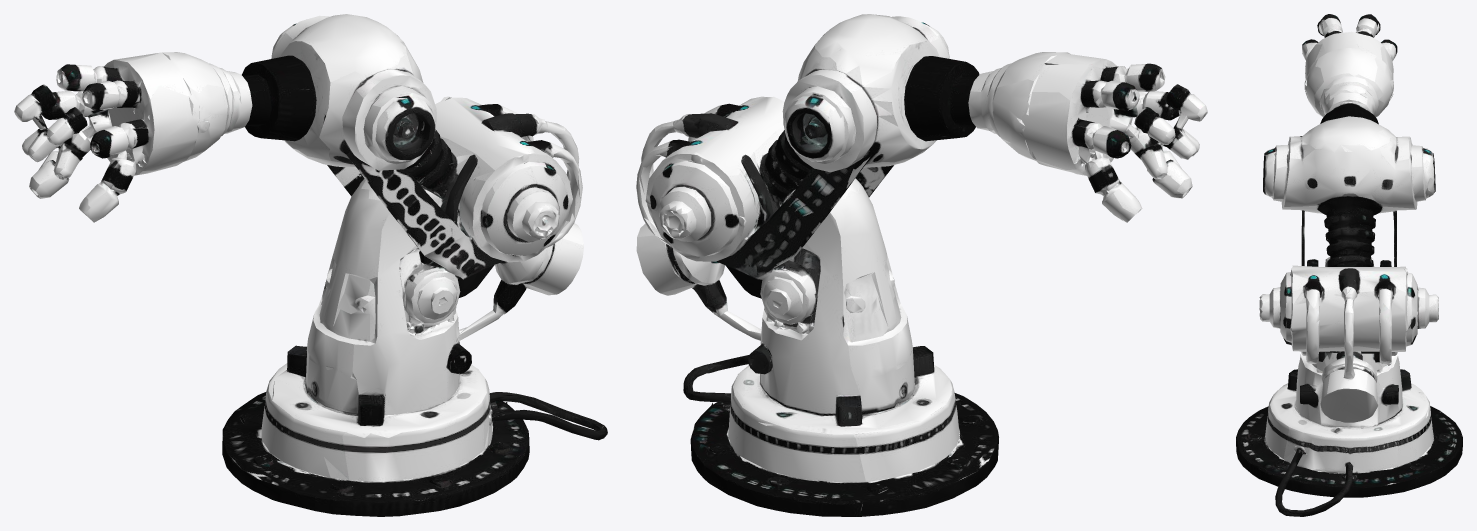
The model's file is Meshy_AI_Articulated_Lab_Arm_balanced.glb.
3 views of the same model, side by side, from view 1: azimuth 30°, elevation 25°; view 2: azimuth 150°, elevation 25°; view 3: azimuth 270°, elevation 25° (orthographic). The views are drawn at different scales.
Size of the model in its own units: 1.9 by 1.48 by 0.9211.
1 material, 1 textured.
